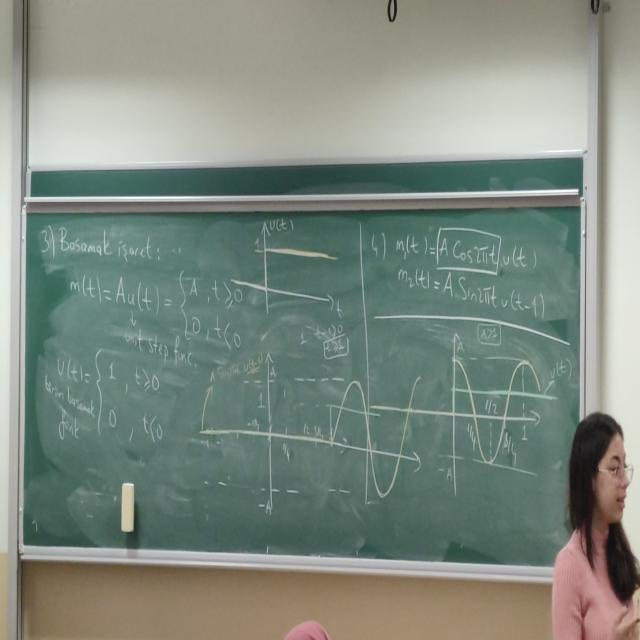image: (200, 348, 431, 512), (368, 325, 566, 489), (328, 228, 425, 503), (225, 216, 342, 331)
math: (380, 214, 550, 318), (62, 262, 244, 351), (45, 336, 169, 458)
text: (59, 233, 161, 261)
